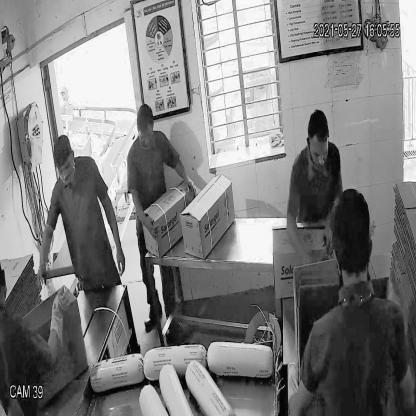no_goggles: (307, 137, 332, 165), (53, 157, 79, 183)
